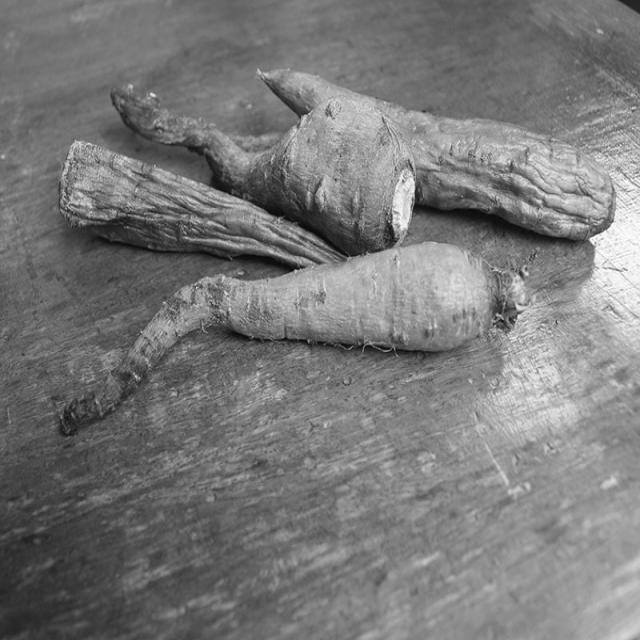Stale_Carrot: (60, 246, 519, 455), (50, 260, 501, 434), (285, 54, 611, 250), (262, 75, 616, 240), (116, 77, 416, 251), (58, 139, 343, 271), (284, 90, 416, 253), (70, 139, 227, 251)
